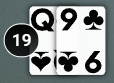9: (58, 7, 80, 33)
q: (29, 7, 57, 34)
